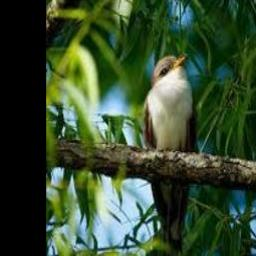Cuckoo: (143, 53, 196, 256)
